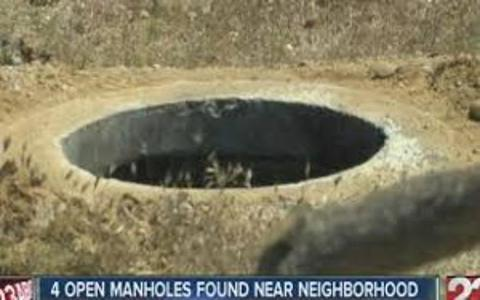open manhole: (51, 86, 401, 219)
